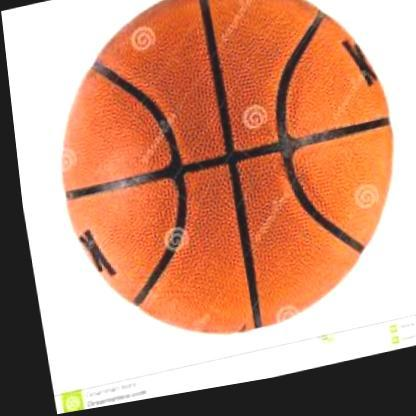basketball: (36, 0, 409, 368)
